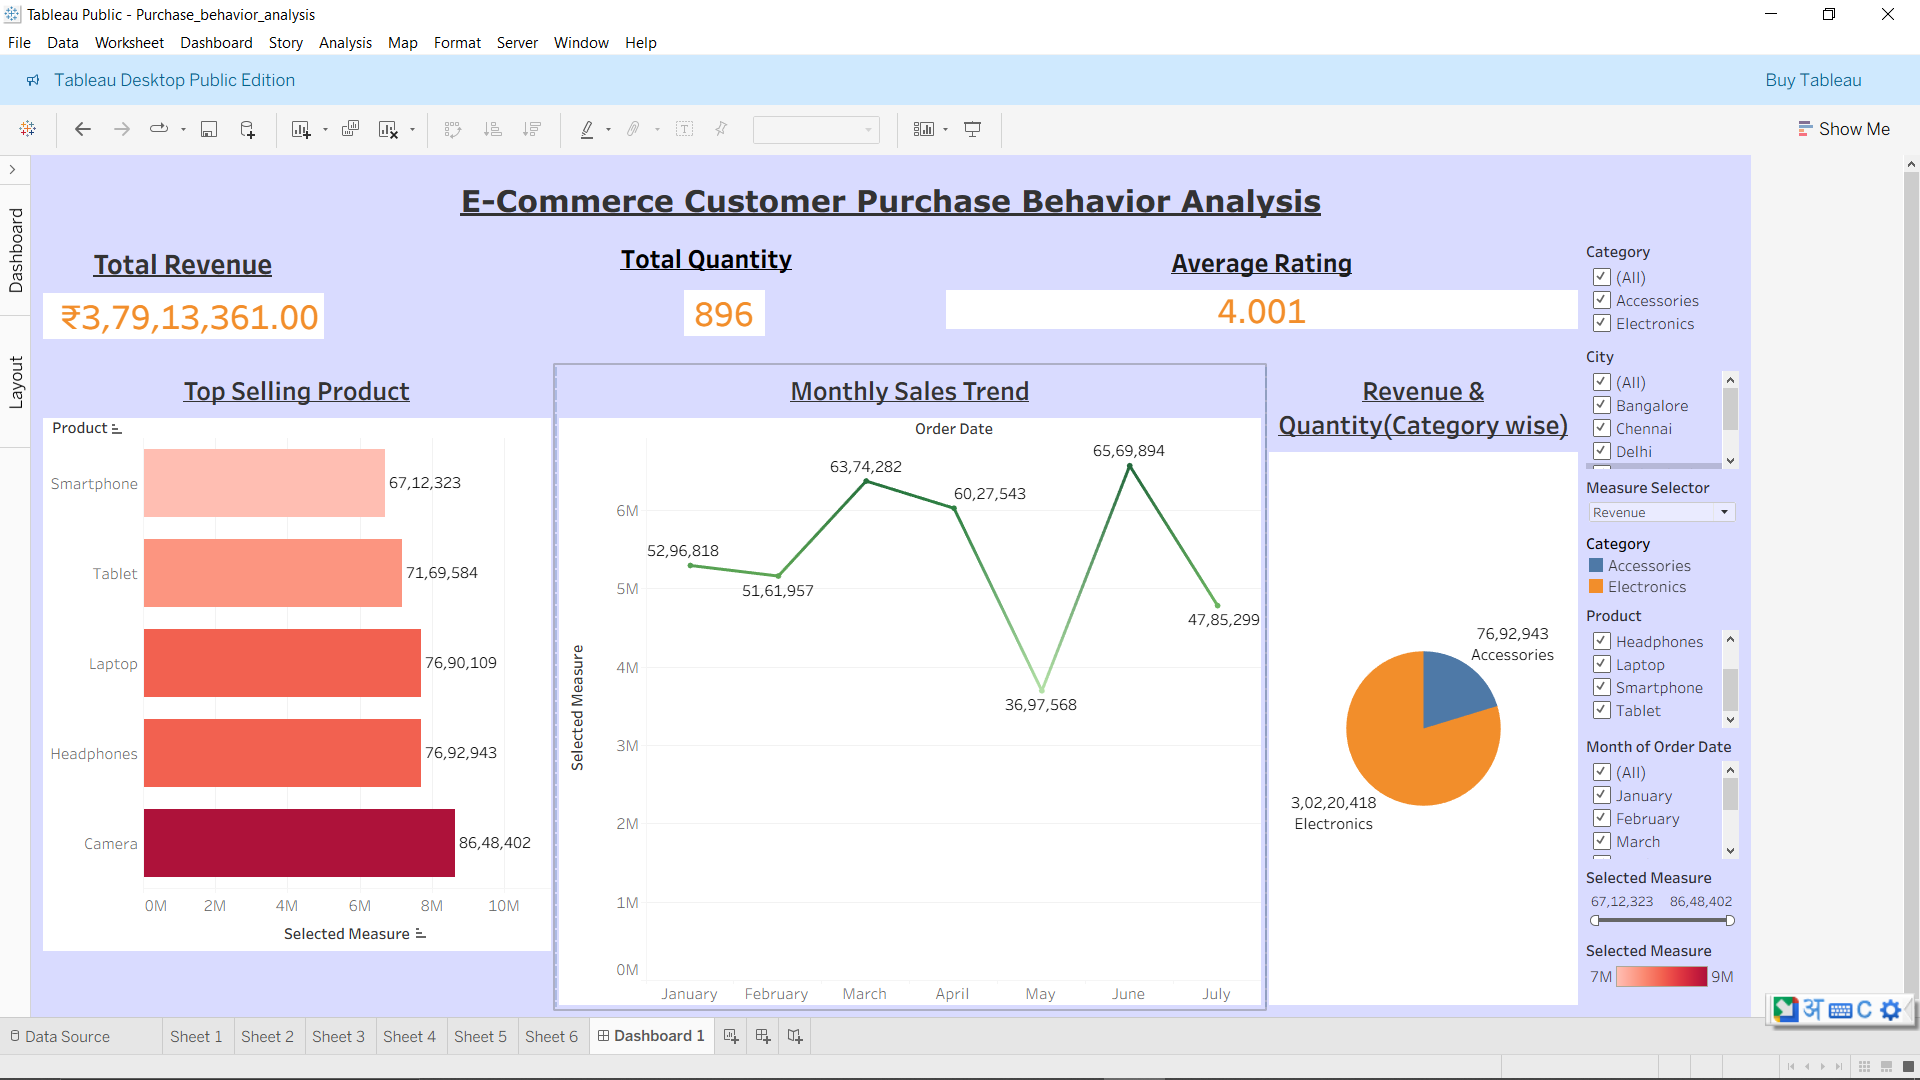

The page's visual inventory and layout, read from the dashboard file:
{"tool":"tableau","page":{"name":"Dashboard 1","canvas":[1000,1000],"units":"permille","ordinal":0},"visuals":[{"type":"title","box":[4.8,9.9,990.3,91.2]},{"type":"worksheet","title":"Sheet 4","mark":"Text","box":[4.8,101.1,260.7,146.7]},{"type":"text","box":[265.5,101.1,261.9,146.7]},{"type":"worksheet","title":"Sheet 6","mark":"Text","box":[527.4,101.1,370.6,118.4]},{"type":"filter","title":"Sheet 2","param":"[federated.192mvck007p3s119wm6gr05jz4i2].[none:Category:nk]","box":[898,101.1,97.2,129.5]},{"type":"worksheet","title":"Sheet 5","mark":"Text","box":[379.6,139.2,95.1,146.6]},{"type":"filter","title":"Sheet 2","param":"[federated.192mvck007p3s119wm6gr05jz4i2].[none:City:nk]","box":[898,230.6,97.2,140.6]},{"type":"worksheet","title":"Sheet 1","mark":"Automatic","rows":["Product"],"cols":["Calculation_290200738670493696"],"box":[4.8,258.9,292.4,731.2]},{"type":"worksheet","title":"Sheet 2","mark":"Line","rows":["Calculation_290200738670493696"],"cols":["Order Date"],"box":[297.2,258.9,428.5,731.2]},{"type":"worksheet","title":"Sheet 3","mark":"Pie","box":[725.7,258.9,172.3,731.2]},{"type":"parameter","param":"[Parameters].[Total Revenue Parameter]","box":[898,371.1,97.2,69]},{"type":"legend","title":"Sheet 3","param":"[federated.192mvck007p3s119wm6gr05jz4i2].[none:Category:nk]","box":[898,440.2,97.2,88.8]},{"type":"filter","title":"Sheet 1","param":"[federated.192mvck007p3s119wm6gr05jz4i2].[none:Product:nk]","box":[898,529,97.2,140.6]},{"type":"filter","title":"Sheet 1","param":"[federated.192mvck007p3s119wm6gr05jz4i2].[mn:Order Date:ok]","box":[898,669.5,97.2,140.6]},{"type":"filter","title":"Sheet 1","param":"[federated.192mvck007p3s119wm6gr05jz4i2].[sum:Calculation_290200738670493696:qk]","box":[898,810.1,97.2,90]},{"type":"legend","title":"Sheet 1","param":"[federated.192mvck007p3s119wm6gr05jz4i2].[sum:Calculation_290200738670493696:qk]","box":[898,900.1,97.2,90]}]}

Visuals, with their boxes on the dashboard's canvas, which has no fixed pixel size, in thousandths of its width and height (x1, y1, x2, y2). These are canvas units, not pixel positions in the 1920x1080 screenshot, which may show the page scaled, cropped or inside an application window:
title: 5 10 995 101
"Sheet 4" worksheet (Text marks): 5 101 266 248
text: 266 101 527 248
"Sheet 6" worksheet (Text marks): 527 101 898 220
"Sheet 2" filter: 898 101 995 231
"Sheet 5" worksheet (Text marks): 380 139 475 286
"Sheet 2" filter: 898 231 995 371
"Sheet 1" worksheet: 5 259 297 990
"Sheet 2" worksheet (Line marks): 297 259 726 990
"Sheet 3" worksheet (Pie marks): 726 259 898 990
parameter: 898 371 995 440
"Sheet 3" legend: 898 440 995 529
"Sheet 1" filter: 898 529 995 670
"Sheet 1" filter: 898 670 995 810
"Sheet 1" filter: 898 810 995 900
"Sheet 1" legend: 898 900 995 990
